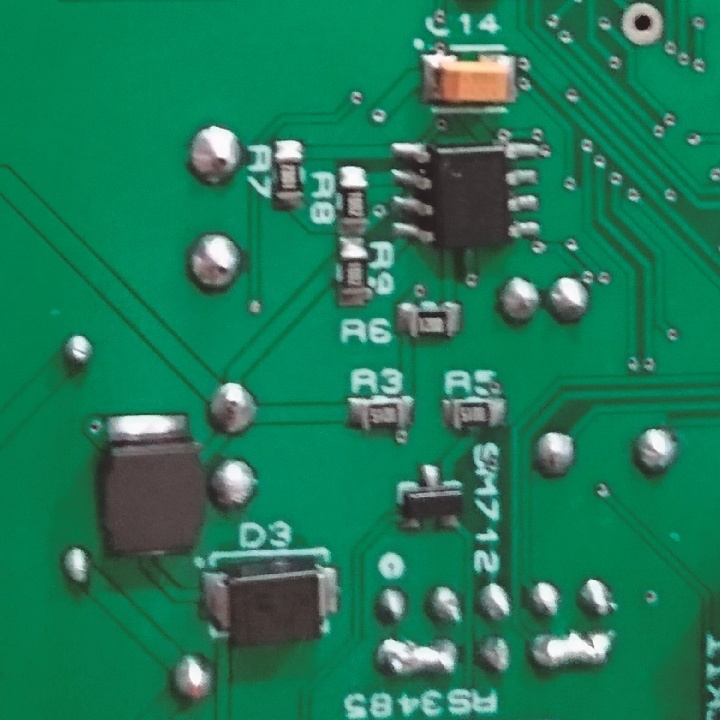F: (619, 1, 667, 52)
P: (527, 630, 616, 674), (375, 638, 456, 679)
